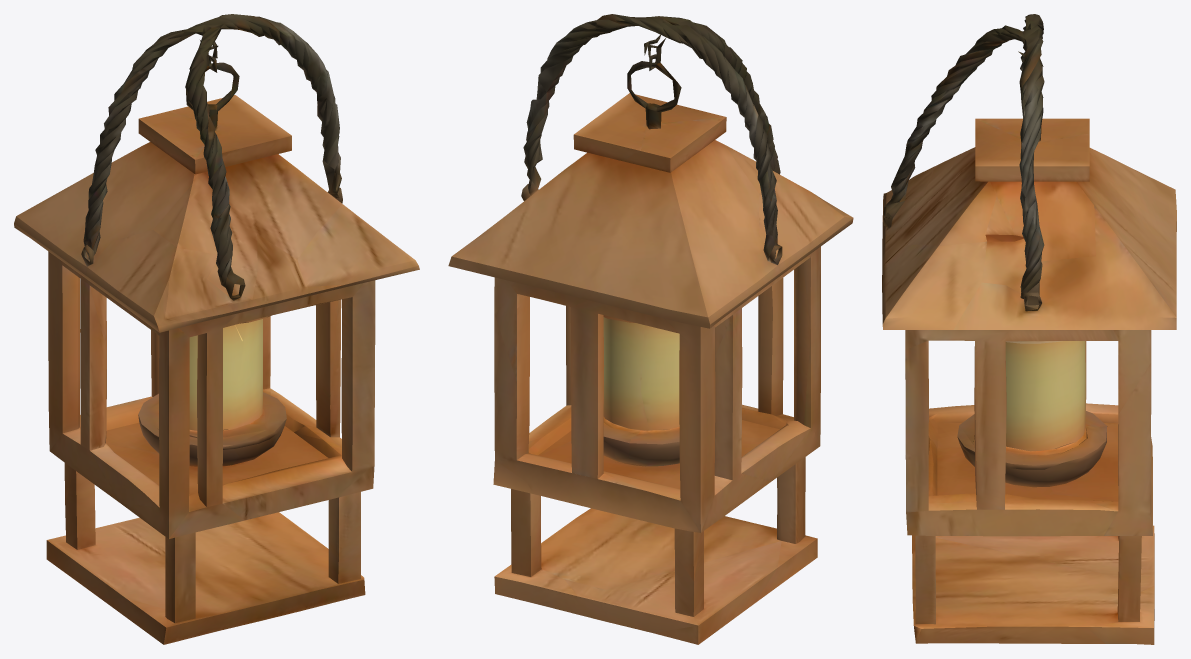
File: m2LanternDeck.glb
3 renders of one model, left to right at view 1: azimuth 30°, elevation 25°; view 2: azimuth 150°, elevation 25°; view 3: azimuth 270°, elevation 25°, orthographic.
Parts seen in each view (by area): view 1: model; view 2: model; view 3: model.
Boxes of the visible parts, left/top/right/bottom form: model: left=14, top=14, right=419, bottom=644; model: left=448, top=14, right=853, bottom=644; model: left=882, top=14, right=1176, bottom=644.
Bounding box in the file's own units: 0.9355 × 1.9 × 0.8972.
1 material, 1 textured.
